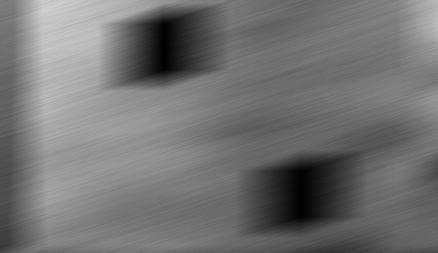Airbag: (0, 1, 438, 252), (428, 3, 438, 253)
